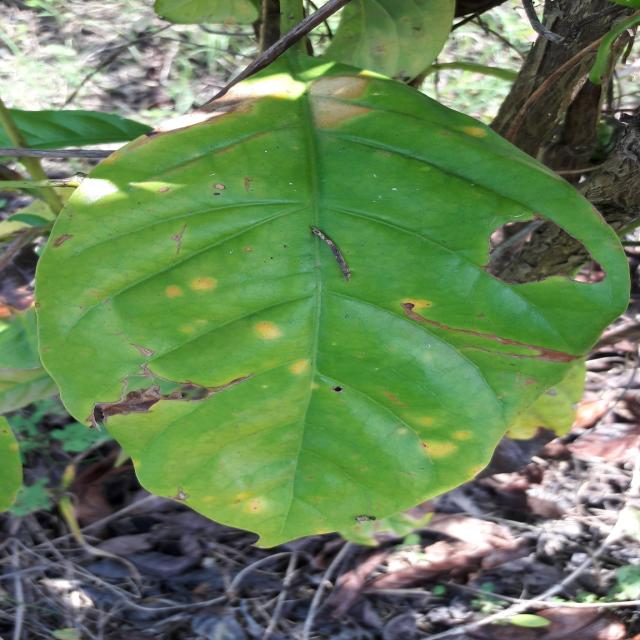Enfermedad-Roya: (34, 72, 631, 549)
